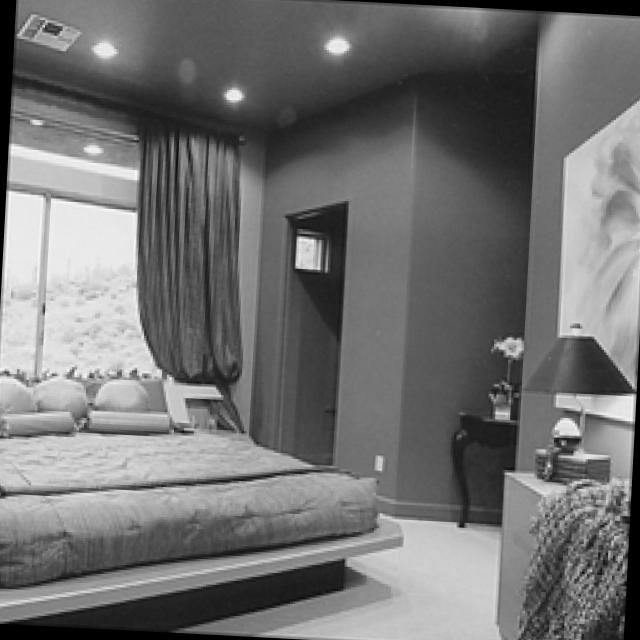2001: (2, 106, 179, 375), (2, 191, 162, 370), (16, 112, 142, 178)
air vent: (22, 10, 85, 49)
bed -occluded-: (0, 369, 403, 625)
blanket: (519, 476, 630, 640)
cabinet door: (497, 467, 620, 640)
ceiling beam: (20, 0, 538, 135)
ceiling lamps: (227, 83, 249, 100), (99, 41, 121, 54)
ceiling vent: (325, 23, 357, 55)
curtain crop: (139, 110, 249, 428)
door bars: (283, 199, 351, 466)
lamp crop: (514, 328, 637, 486)
painting crop: (559, 99, 640, 424)
pillow occluded: (0, 407, 79, 436), (89, 406, 175, 430), (39, 376, 90, 411), (95, 377, 154, 406), (0, 376, 38, 409)
plant -x: (491, 330, 527, 407)
small table part: (454, 410, 518, 523)
wall outlets: (373, 450, 390, 471)
